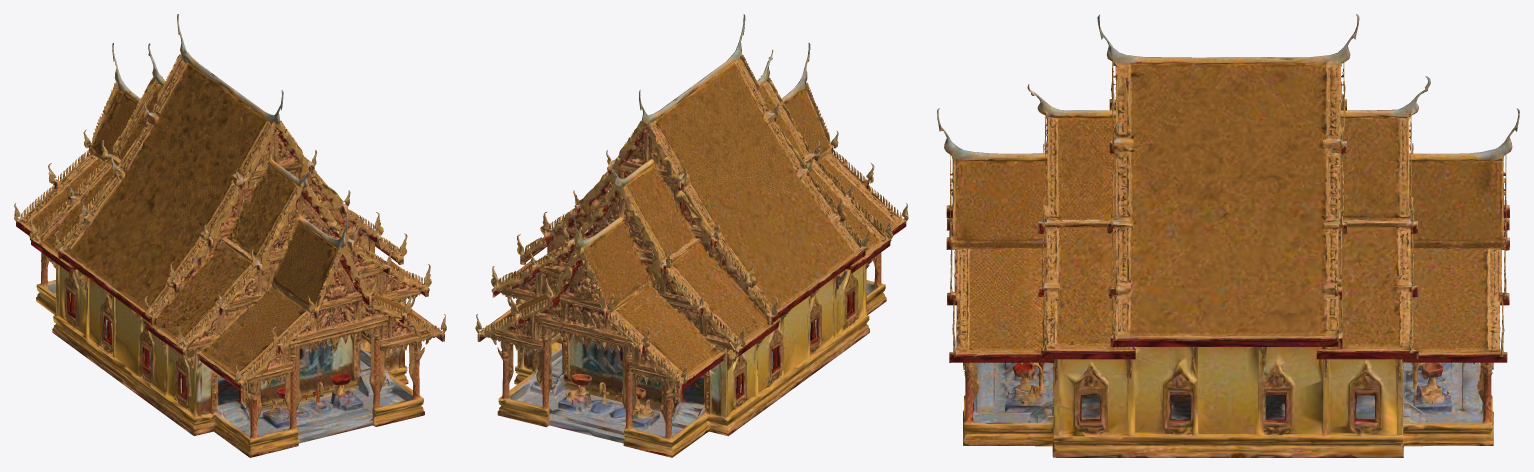
File: wat-lai.ar.glb
The picture shows the model from 3 angles, left to right: view 1: azimuth 30°, elevation 25°; view 2: azimuth 150°, elevation 25°; view 3: azimuth 270°, elevation 25°; orthographic projection. The views are drawn at different scales.
Bounding box in the file's own units: 0.2576 × 0.2872 × 0.4.
Materials: 1 (1 with a texture image).
